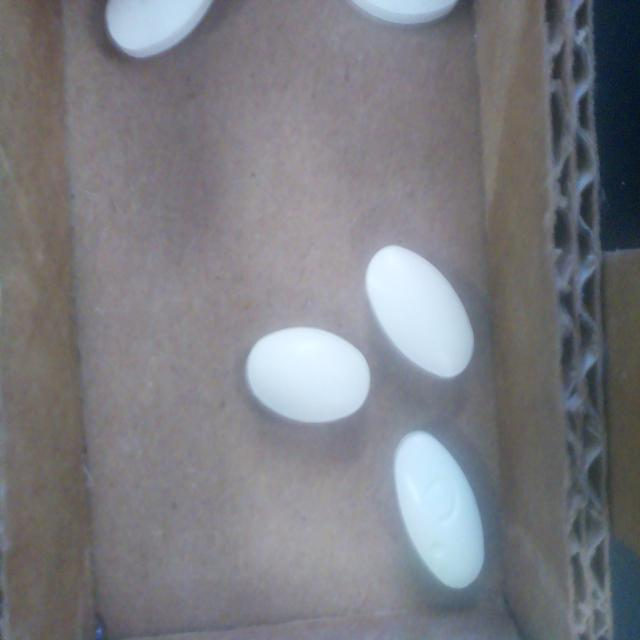pill: (365, 246, 474, 379), (394, 432, 484, 587), (246, 327, 370, 424), (106, 0, 212, 58), (353, 0, 457, 24)
